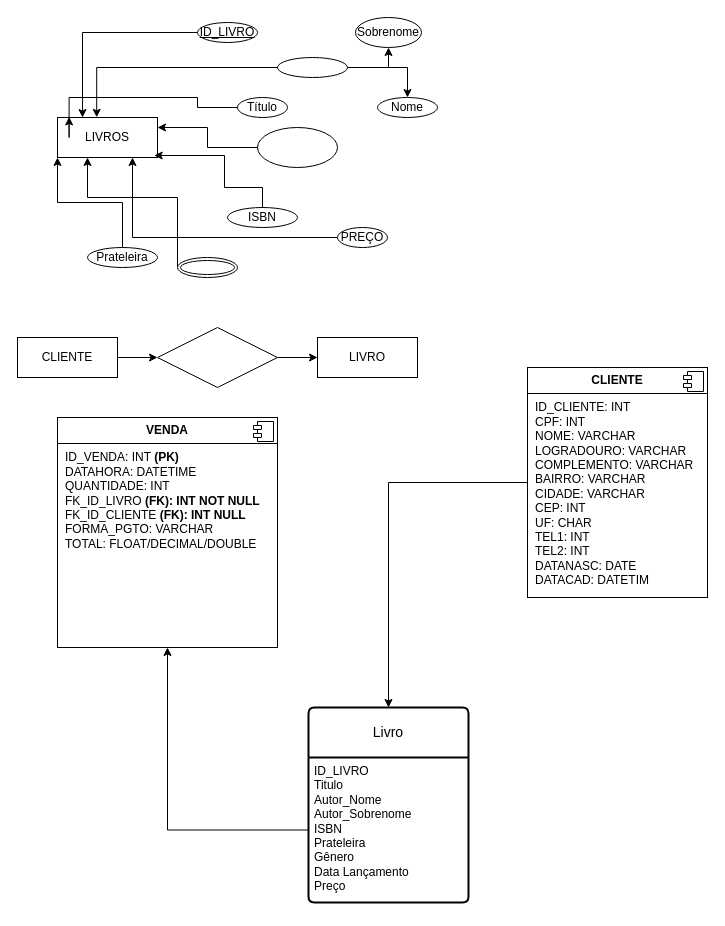
The diagram is 725 pixels wide and 926 high, and some of its shapes have lost their labels. The shapes that lost their labels are listed below. From the top down, each one's centre as x and y in pixels, then its label:
the point at 312,67: Autor
the point at 297,147: Data Lançamento
the point at 207,267: Gênero
the point at 217,357: COMPRA
